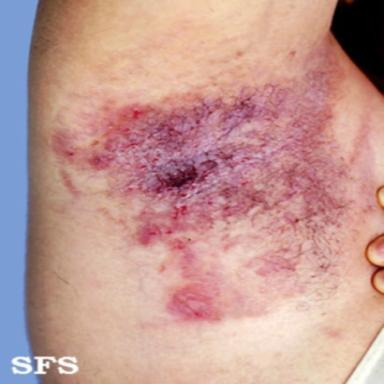Hailey-Hailey-Disease: (56, 68, 346, 318)
